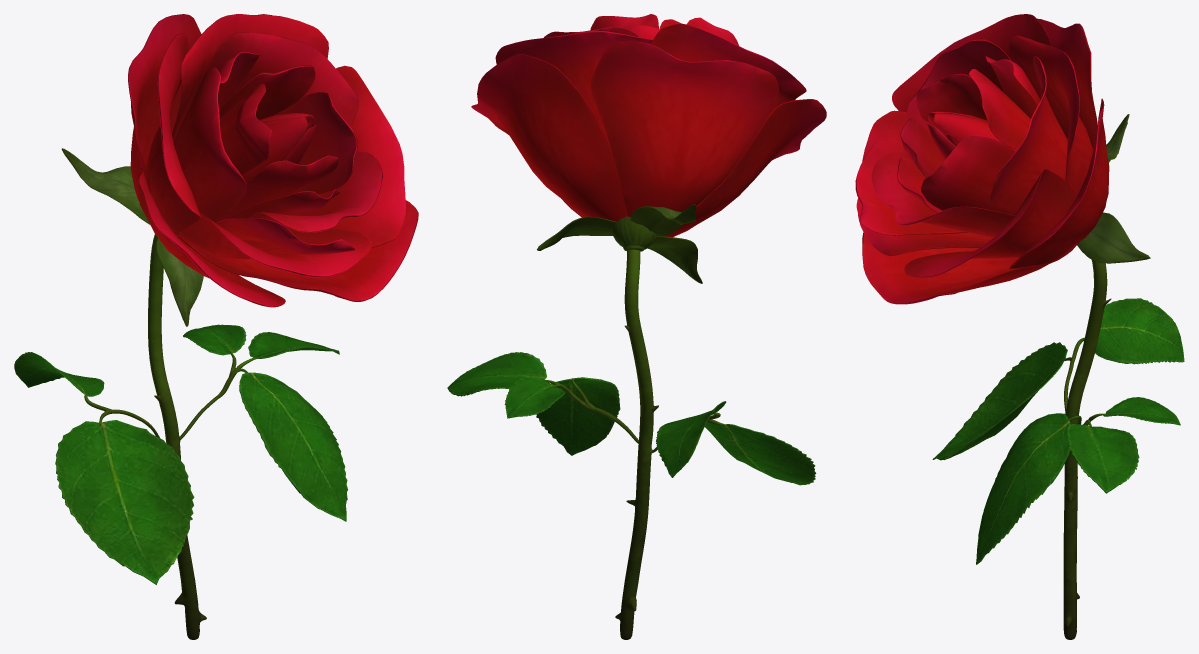
File: rose.glb
3 views of the same model, side by side, from view 1: azimuth 30°, elevation 25°; view 2: azimuth 150°, elevation 25°; view 3: azimuth 270°, elevation 25° (orthographic). The views are drawn at different scales.
Parts seen in each view (by area): view 1: Sketchfab Model; view 2: Sketchfab Model; view 3: Sketchfab Model.
Boxes of the visible parts, bbox=[...] form: Sketchfab Model: bbox=[14, 14, 418, 639]; Sketchfab Model: bbox=[447, 14, 826, 639]; Sketchfab Model: bbox=[855, 14, 1184, 639].
Bounding box in the file's own units: 0.7718 × 1.39 × 0.6853.
1 material, 1 textured.
